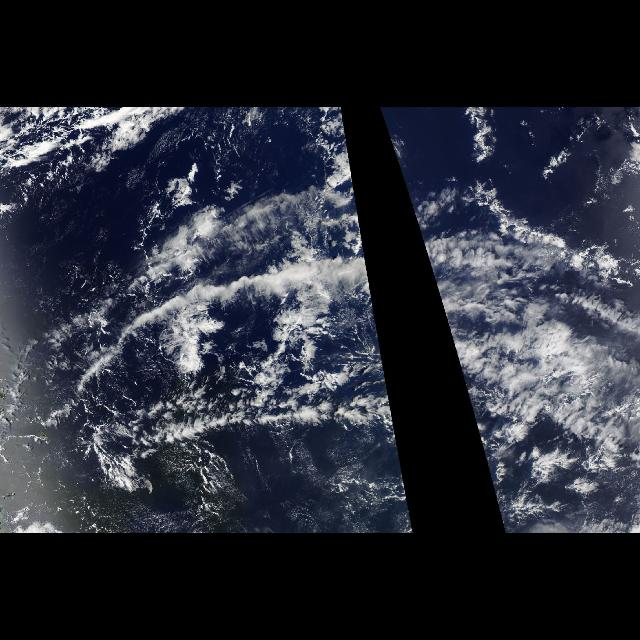Fish: (78, 371, 408, 501)
Gravel: (58, 257, 376, 445)
